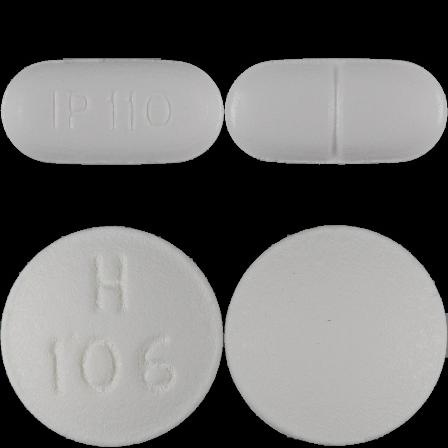61919-118: (0, 0, 224, 224)
